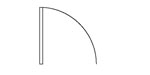door: (41, 3, 98, 66)
